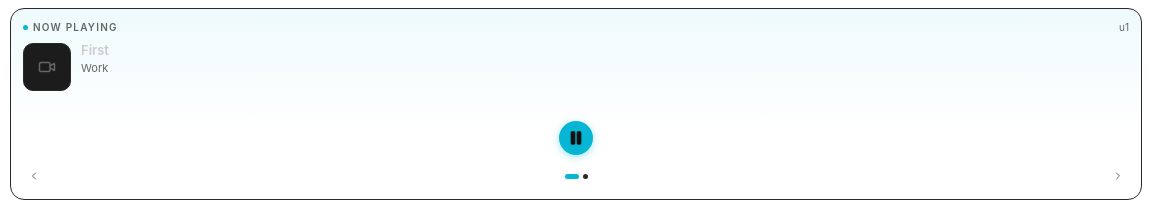
MediaWidget › shows chevrons and switches session on click when multiple sessions exist
Check: the text "First" is shown, box [81,43,109,58]
Click the button named "Previous session" at x=34, y=176, box [23,165,45,187]
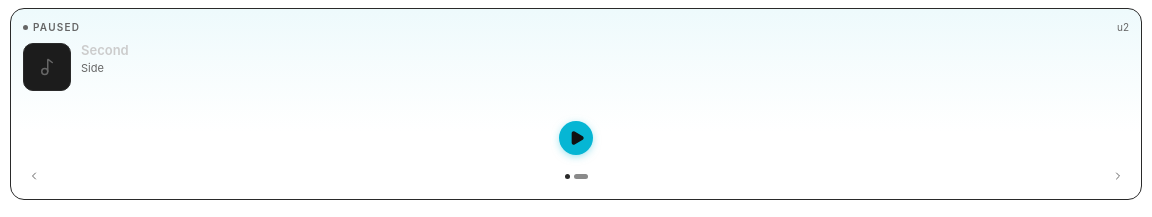
Check: the text "Second" is shown, box [81,43,129,58]
